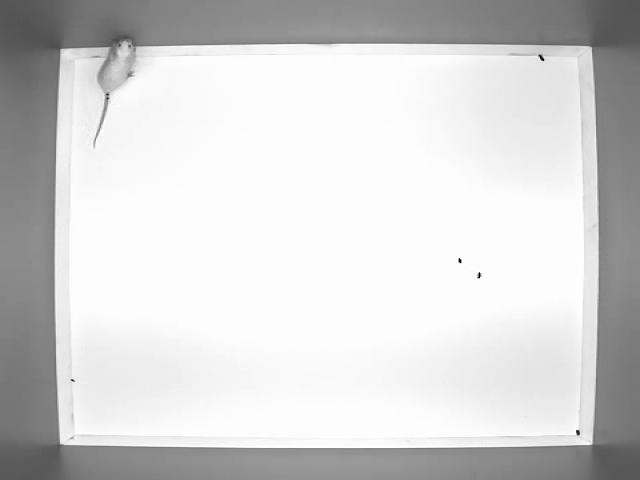Tikus: (90, 36, 140, 148)
